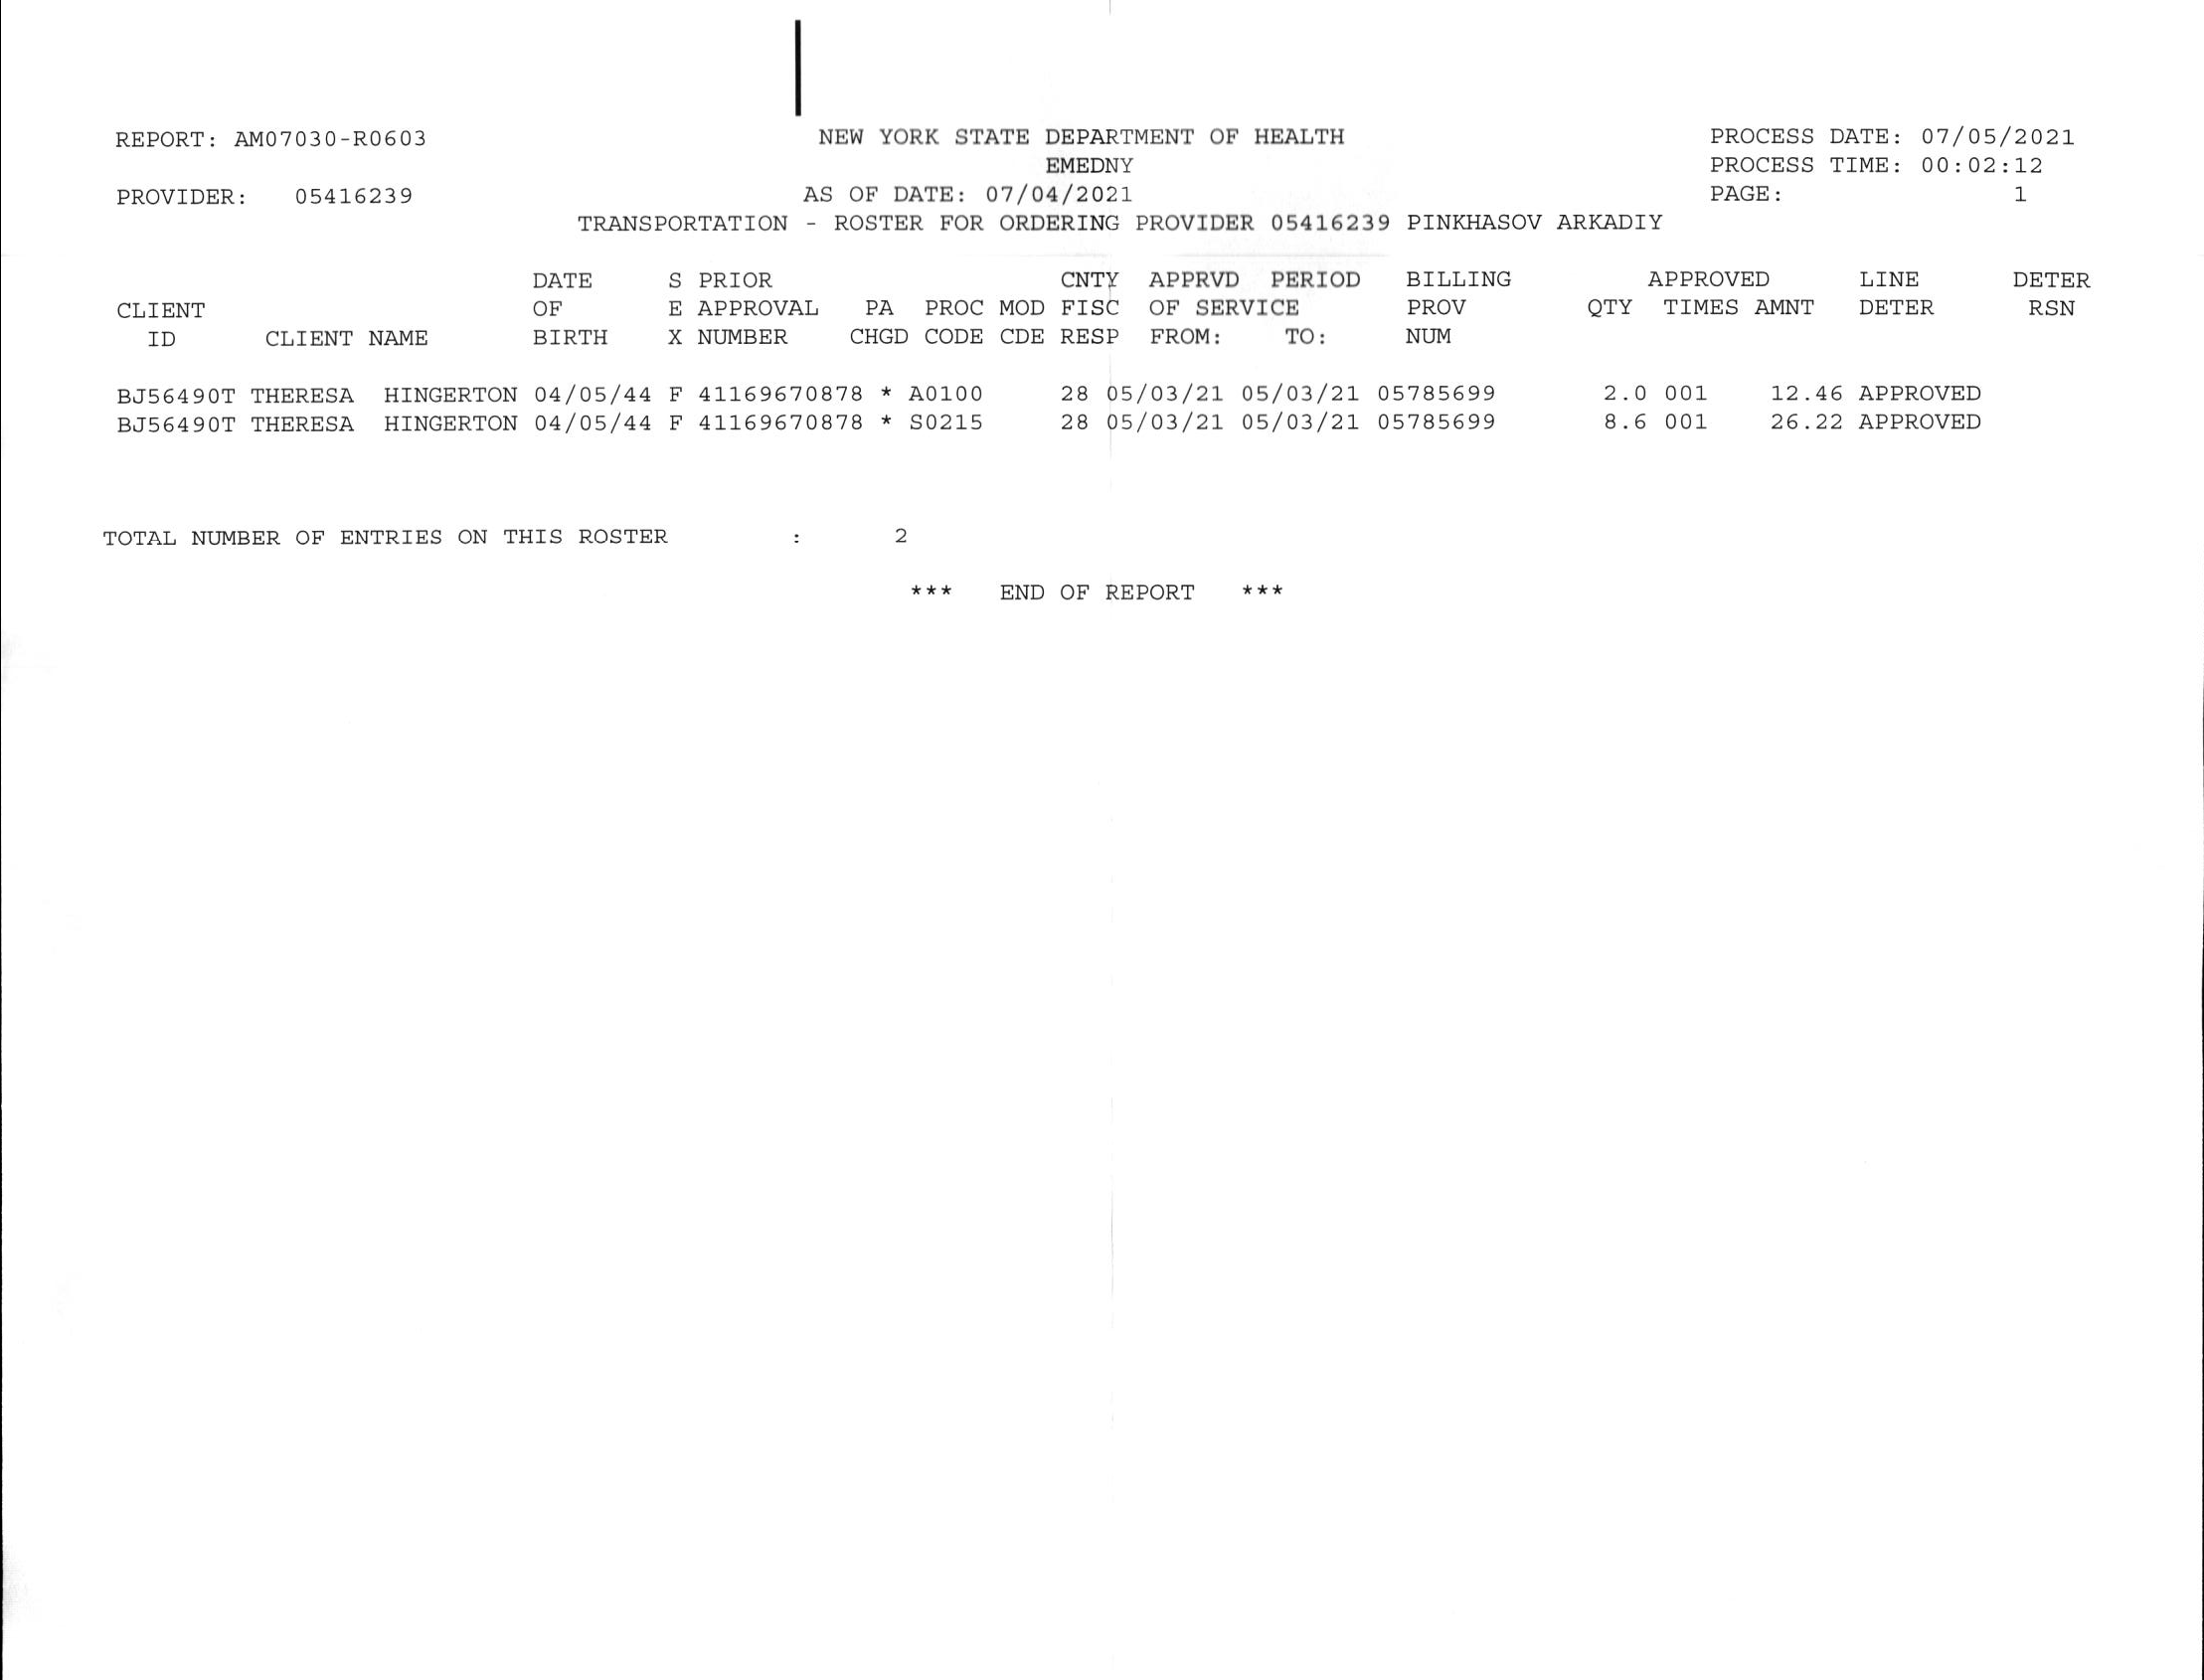table: (99, 247, 2114, 475)
